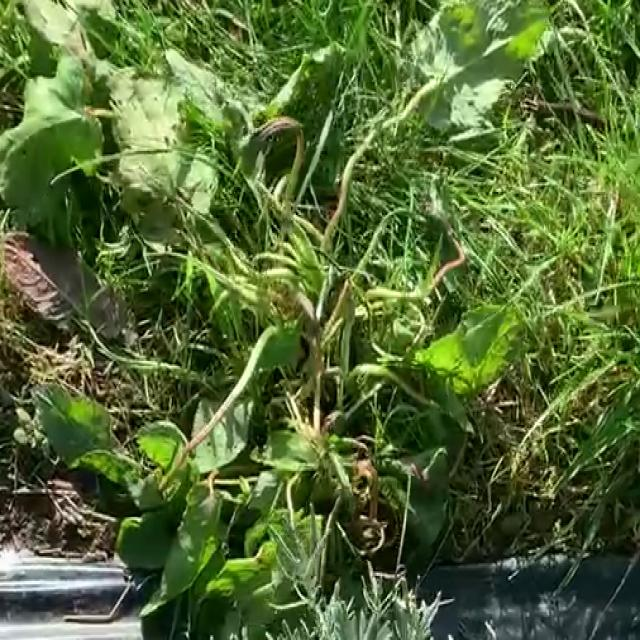organic waste: (13, 0, 569, 640)
